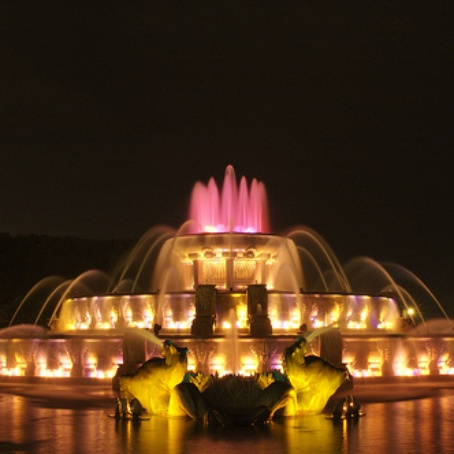fountain: (1, 173, 450, 400)
sky: (1, 1, 454, 204)
